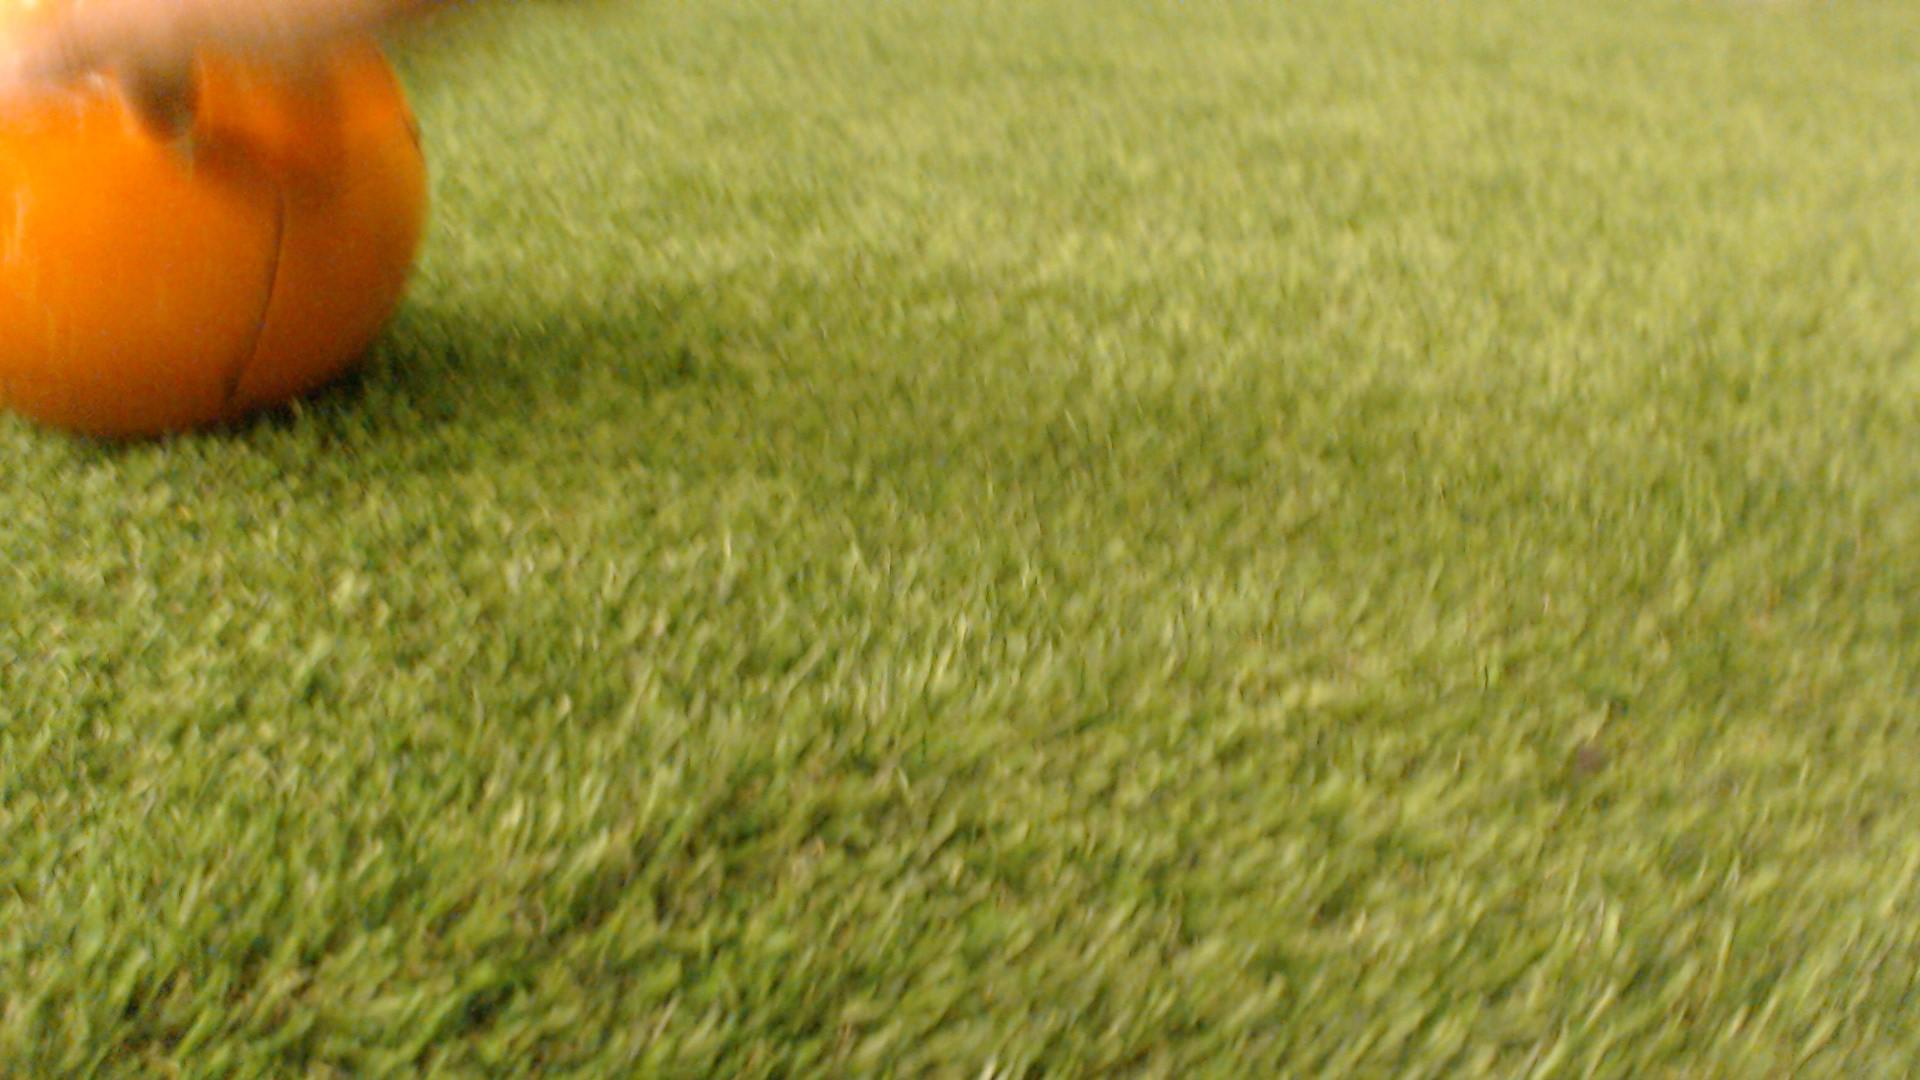bola: (0, 103, 440, 458)
